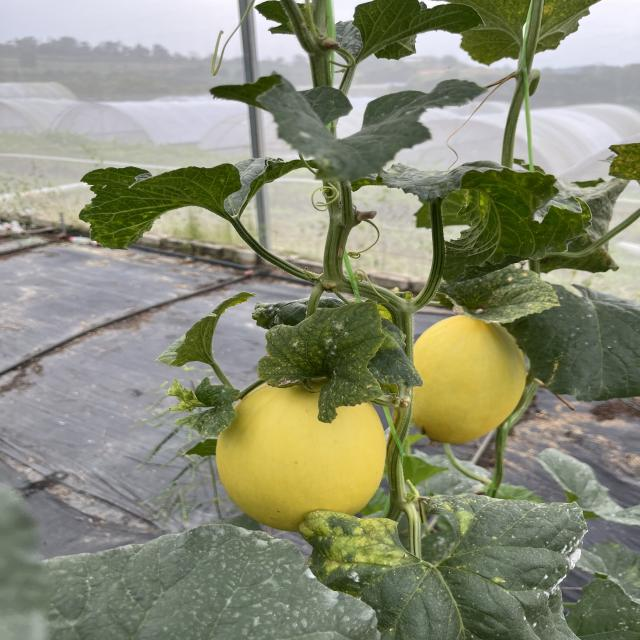CMV: (69, 144, 298, 258), (381, 161, 592, 278)
SLCV: (303, 495, 590, 640)
alternaria leaf blight: (261, 301, 381, 417), (443, 265, 559, 324)
powdery mildew: (38, 529, 373, 640)
